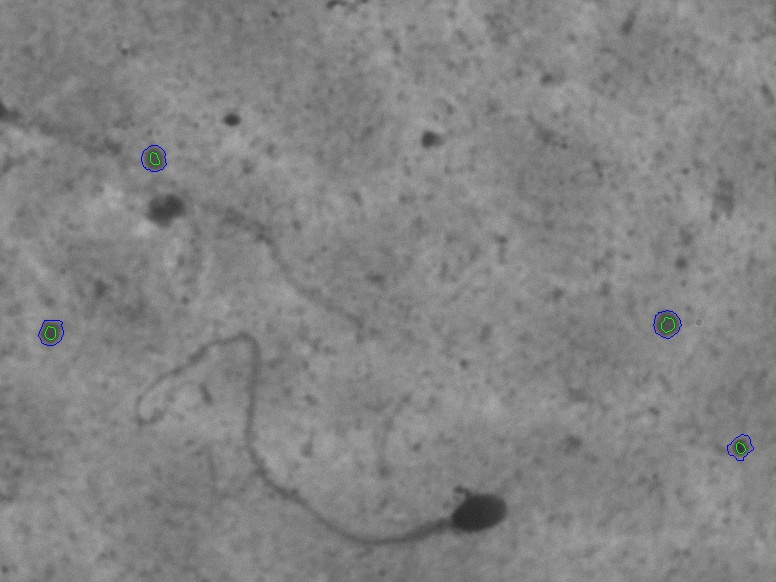Normal: (108, 310, 522, 568)
